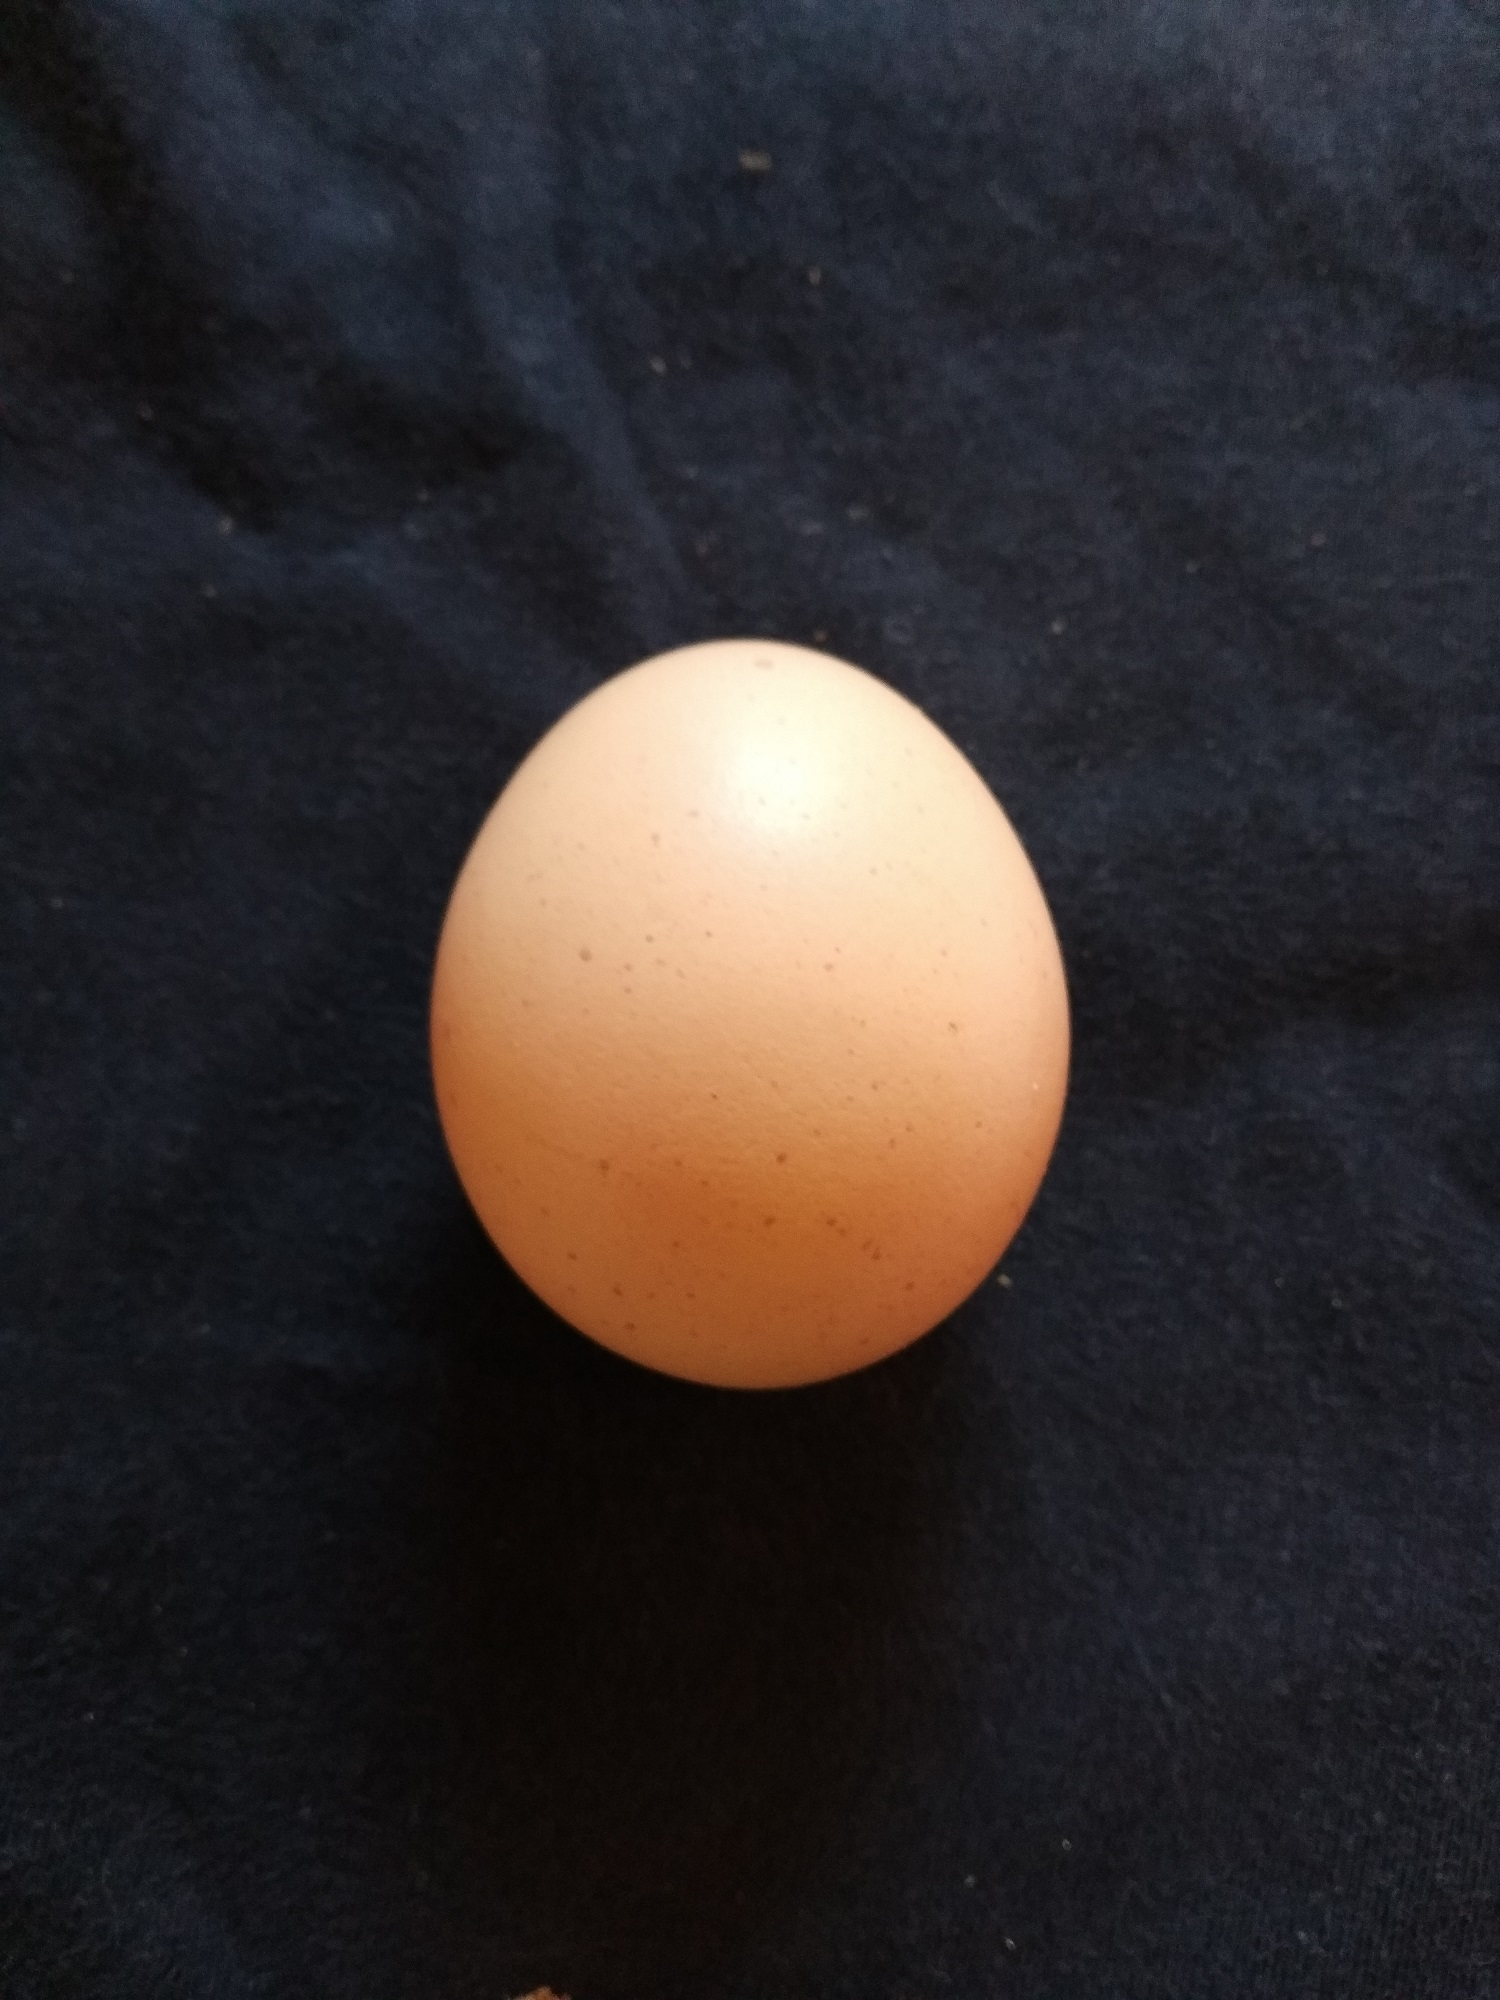Female: (425, 630, 1078, 1395)
